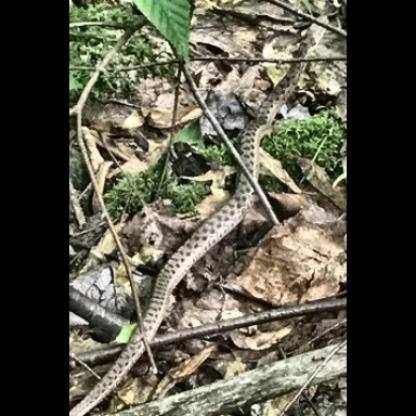Snake: (134, 220, 251, 361), (236, 73, 290, 222), (284, 10, 337, 78)
